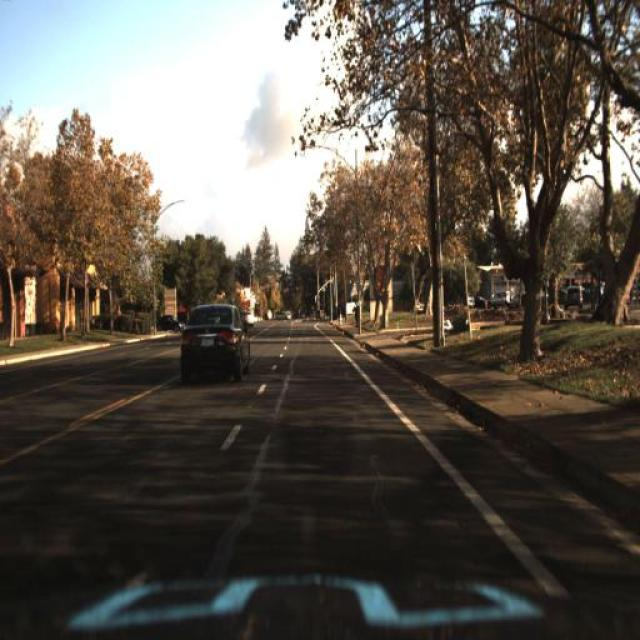car: (173, 298, 248, 382), (154, 312, 184, 338), (488, 290, 516, 310), (564, 286, 585, 312), (276, 311, 290, 320), (316, 310, 326, 320)
trafficLight: (352, 297, 362, 332)
